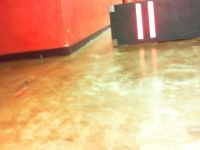switch: (148, 1, 157, 39), (135, 3, 144, 40)
